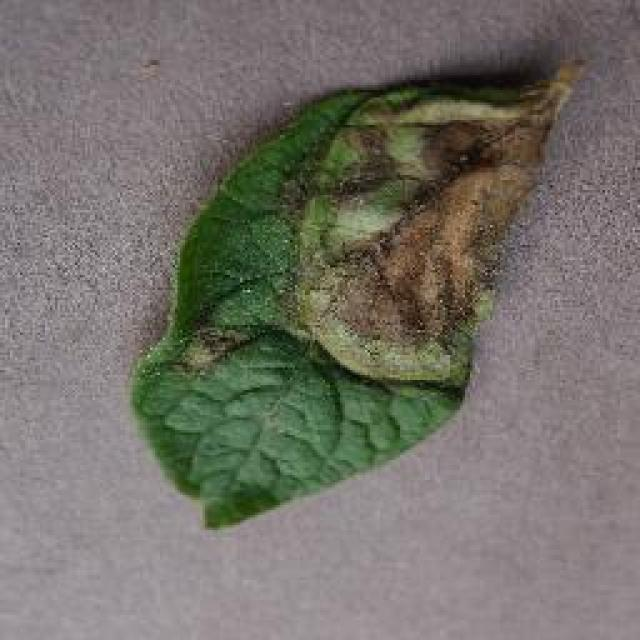Potato___Late_blight: (124, 46, 594, 533)
